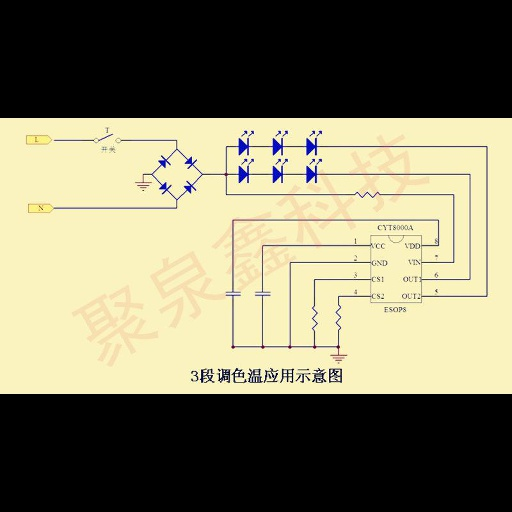capacitor: (218, 287, 244, 301), (253, 287, 275, 300)
firstled: (302, 127, 328, 157), (269, 128, 293, 157), (268, 157, 291, 187), (234, 157, 257, 185), (302, 157, 323, 186), (237, 127, 257, 157)
gnd: (131, 180, 153, 191)
rectifierbridge: (152, 146, 203, 201)
secondresistance: (307, 301, 323, 338), (333, 299, 345, 339), (351, 189, 384, 200)
